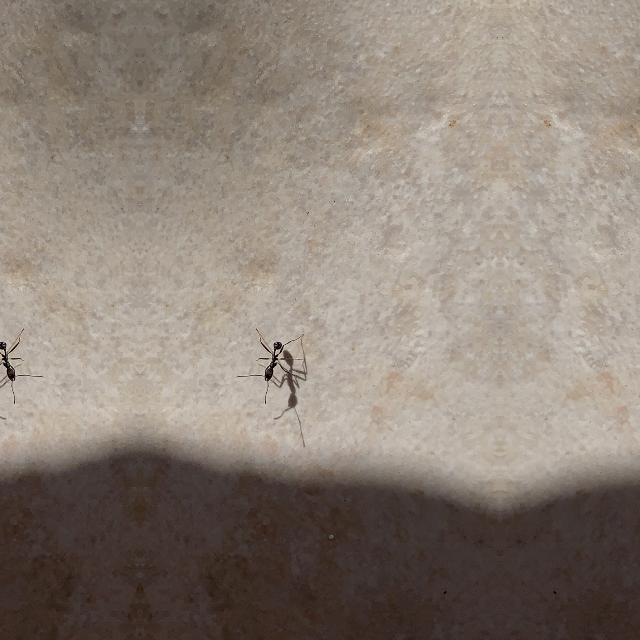Apheanogaster: (280, 338, 312, 422), (256, 330, 286, 390), (0, 328, 24, 389)
